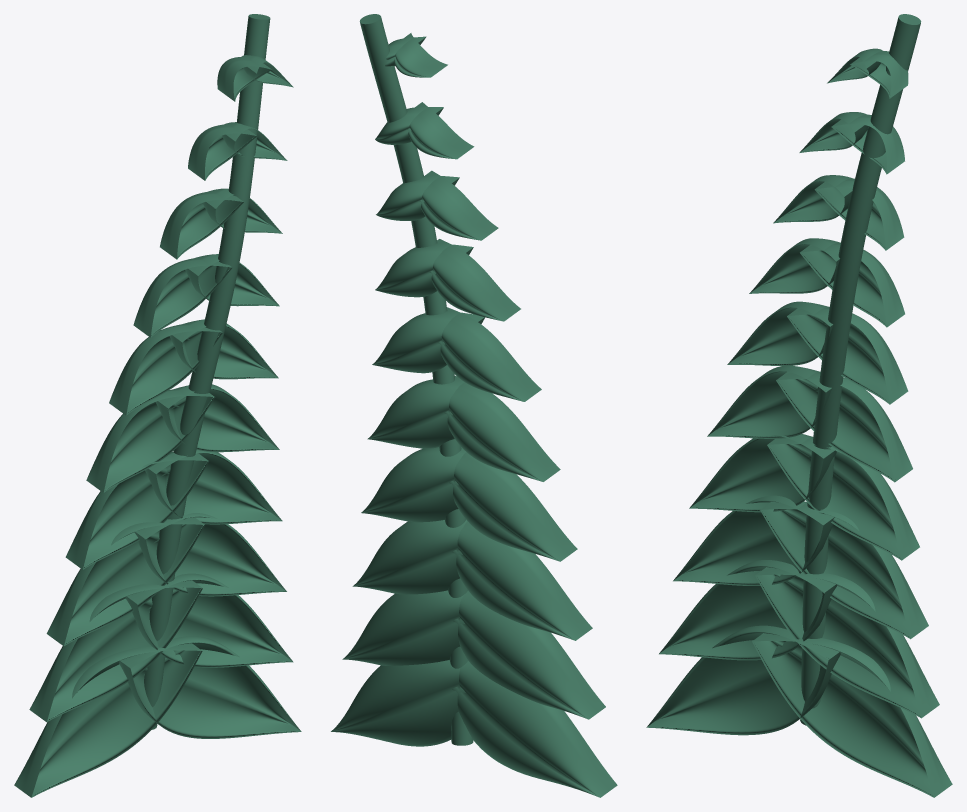
3 renders of one model, left to right at view 1: azimuth 30°, elevation 25°; view 2: azimuth 150°, elevation 25°; view 3: azimuth 330°, elevation 25°, orthographic. The views are drawn at different scales.
Parts seen in each view (by area): view 1: fern-stem, leaflet-0--1, leaflet-0-1, leaflet-1--1, leaflet-1-1, leaflet-2--1, leaflet-2-1, leaflet-3--1, leaflet-4--1, leaflet-3-1, leaflet-5--1, leaflet-4-1 (+9 smaller); view 2: leaflet-0--1, leaflet-1--1, leaflet-2--1, leaflet-0-1, leaflet-3--1, leaflet-1-1, fern-stem, leaflet-4--1, leaflet-2-1, leaflet-3-1, leaflet-5--1, leaflet-4-1 (+8 smaller); view 3: fern-stem, leaflet-0-1, leaflet-0--1, leaflet-1-1, leaflet-2-1, leaflet-3-1, leaflet-1--1, leaflet-2--1, leaflet-4-1, leaflet-3--1, leaflet-5-1, leaflet-4--1 (+9 smaller).
Boxes of the visible parts, x1=… form: fern-stem: x1=144, y1=14, x2=270, y2=729; leaflet-0--1: x1=14, y1=643, x2=202, y2=797; leaflet-0-1: x1=119, y1=636, x2=301, y2=738; leaflet-1--1: x1=29, y1=580, x2=202, y2=722; leaflet-1-1: x1=125, y1=573, x2=293, y2=667; leaflet-2--1: x1=46, y1=517, x2=204, y2=646; leaflet-2-1: x1=134, y1=513, x2=286, y2=596; leaflet-3--1: x1=65, y1=453, x2=209, y2=569; leaflet-4--1: x1=86, y1=389, x2=215, y2=492; leaflet-3-1: x1=145, y1=449, x2=282, y2=524; leaflet-5--1: x1=109, y1=324, x2=222, y2=415; leaflet-4-1: x1=155, y1=384, x2=279, y2=452; leaflet-0--1: x1=452, y1=661, x2=617, y2=797; leaflet-1--1: x1=453, y1=590, x2=605, y2=719; leaflet-2--1: x1=452, y1=521, x2=592, y2=640; leaflet-0-1: x1=331, y1=660, x2=465, y2=746; leaflet-3--1: x1=449, y1=452, x2=577, y2=561; leaflet-1-1: x1=342, y1=590, x2=464, y2=665; fern-stem: x1=359, y1=14, x2=473, y2=745; leaflet-4--1: x1=444, y1=375, x2=560, y2=481; leaflet-2-1: x1=352, y1=519, x2=466, y2=594; leaflet-3-1: x1=361, y1=447, x2=465, y2=522; leaflet-5--1: x1=438, y1=307, x2=541, y2=401; leaflet-4-1: x1=367, y1=379, x2=464, y2=448; fern-stem: x1=800, y1=14, x2=921, y2=725; leaflet-0-1: x1=752, y1=633, x2=952, y2=797; leaflet-0--1: x1=646, y1=625, x2=840, y2=735; leaflet-1-1: x1=755, y1=567, x2=939, y2=718; leaflet-2-1: x1=760, y1=501, x2=928, y2=639; leaflet-3-1: x1=767, y1=437, x2=919, y2=560; leaflet-1--1: x1=659, y1=560, x2=837, y2=660; leaflet-2--1: x1=673, y1=495, x2=834, y2=585; leaflet-4-1: x1=776, y1=372, x2=912, y2=482; leaflet-3--1: x1=689, y1=434, x2=836, y2=512; leaflet-5-1: x1=787, y1=307, x2=908, y2=404; leaflet-4--1: x1=707, y1=365, x2=831, y2=438.
Size of the model in its own units: 0.7373 by 1.87 by 0.2129.
